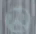Speed limit: (2, 4, 34, 33)
